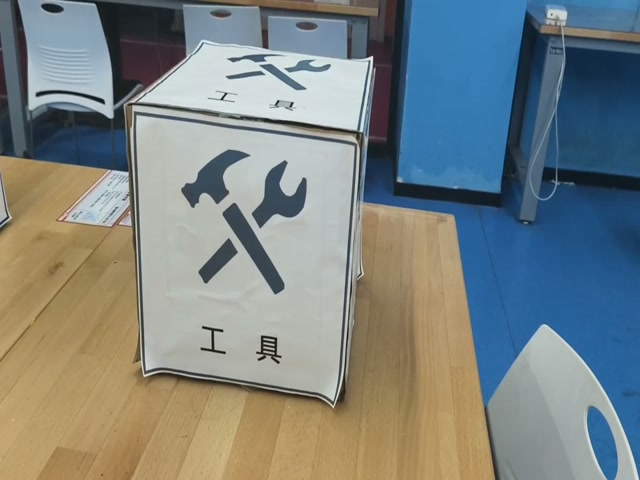Cube_tool: (126, 42, 372, 145)
